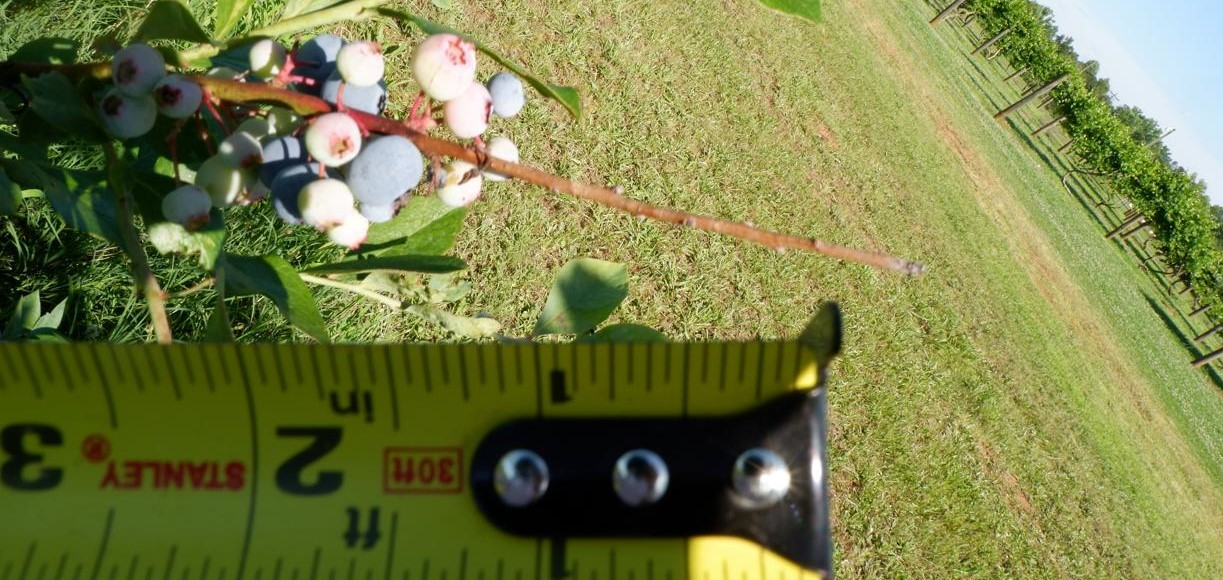Immature: (413, 34, 477, 102), (304, 111, 360, 168), (195, 155, 256, 207), (297, 178, 353, 233), (98, 87, 157, 139), (442, 79, 494, 138), (111, 45, 166, 100), (161, 184, 212, 231), (435, 160, 483, 207), (336, 42, 385, 87), (149, 78, 202, 118), (328, 207, 369, 251), (218, 132, 264, 170), (248, 38, 286, 83), (482, 137, 520, 182), (265, 108, 304, 141), (233, 119, 269, 147), (242, 177, 268, 204), (204, 67, 246, 82)
Mature: (345, 135, 425, 205), (271, 163, 346, 222), (295, 34, 348, 98), (322, 67, 386, 116), (257, 135, 307, 189), (487, 73, 525, 118), (358, 195, 404, 223)
